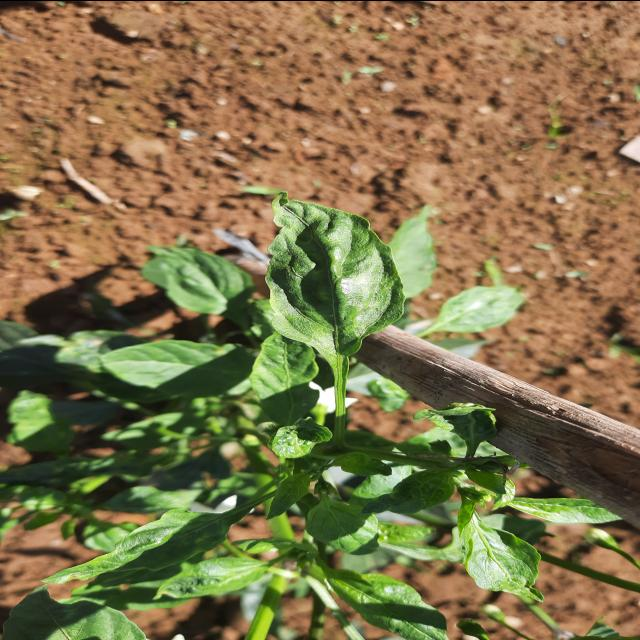thrips: (259, 178, 401, 364), (52, 491, 238, 592), (458, 508, 550, 598)
